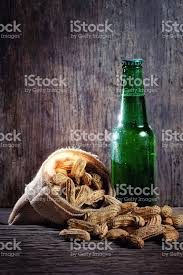beer: (110, 57, 155, 217)
